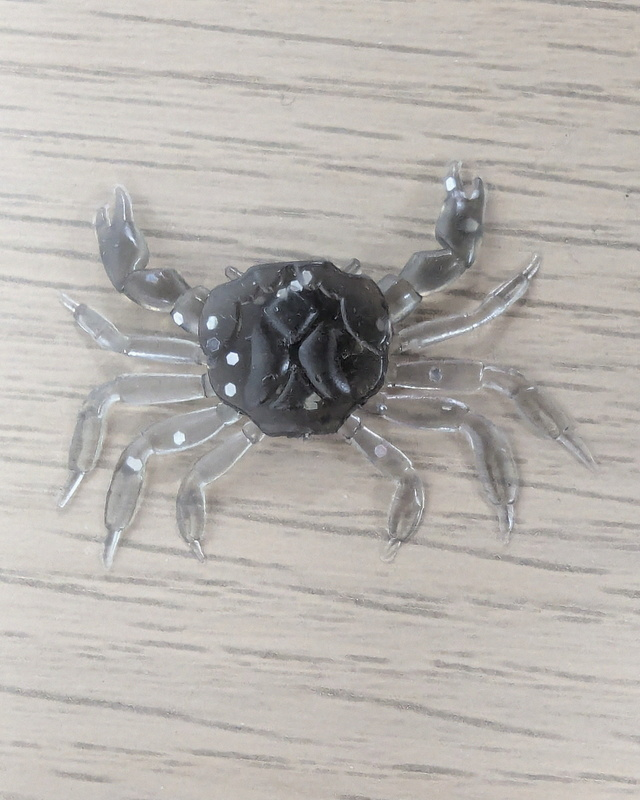crab1: (53, 154, 609, 572)
